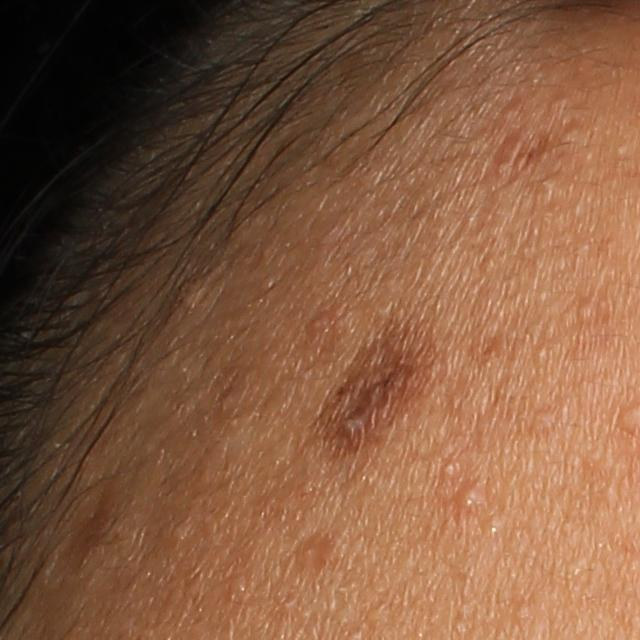comedo: (525, 403, 551, 429), (486, 513, 504, 533), (442, 463, 455, 477)
papule: (452, 485, 479, 510)
